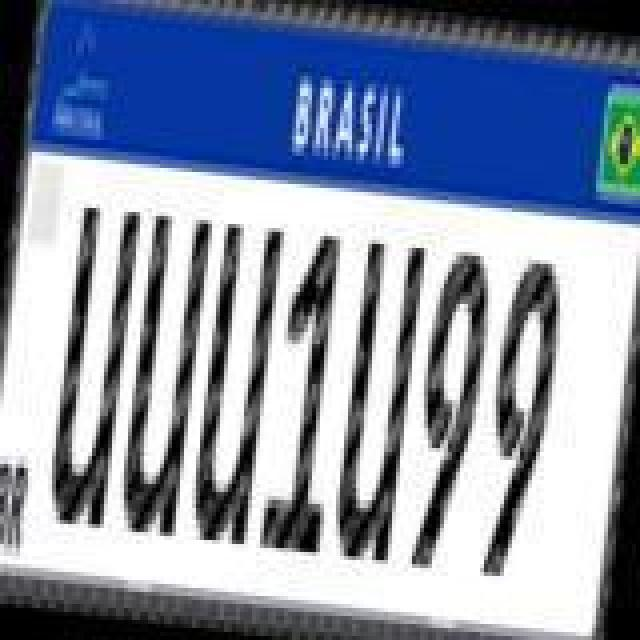1: (256, 224, 360, 560)
9: (468, 248, 572, 584), (398, 236, 498, 572)
U: (324, 230, 428, 570), (40, 200, 144, 536), (184, 216, 288, 552), (112, 210, 216, 542)
